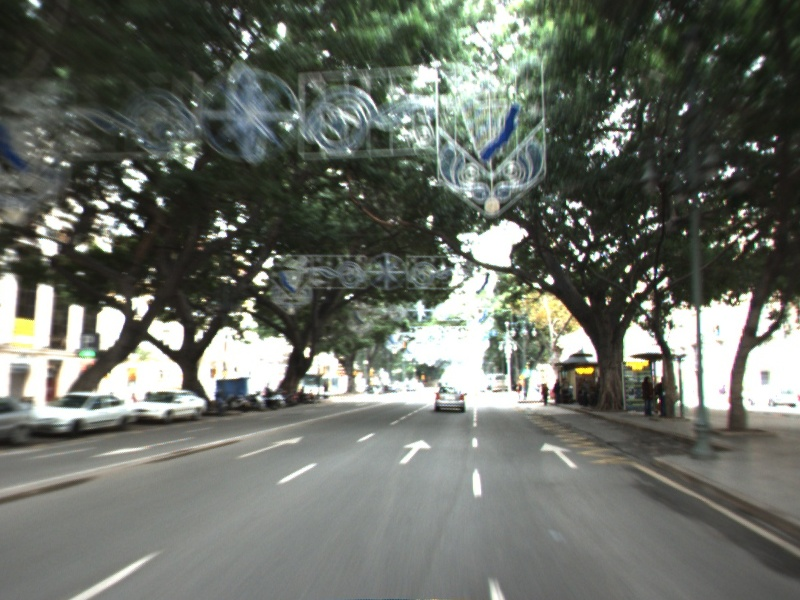STRAIGHT: (235, 435, 306, 460), (538, 440, 581, 470), (396, 437, 434, 466)
